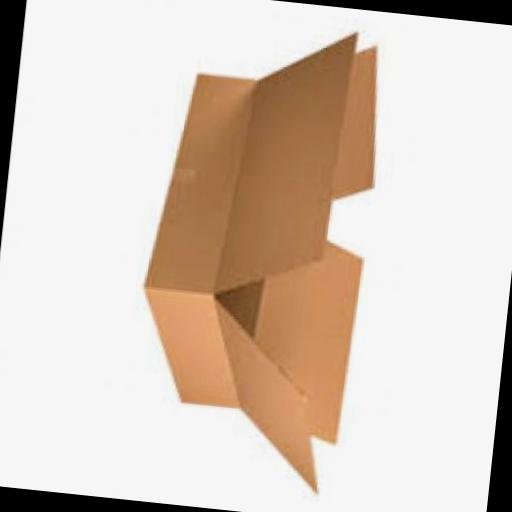cardboard: (125, 18, 386, 498)
